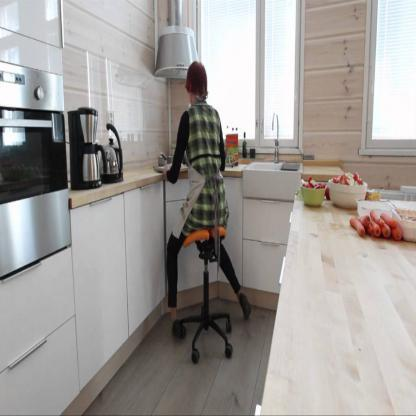chair: (171, 228, 237, 366)
